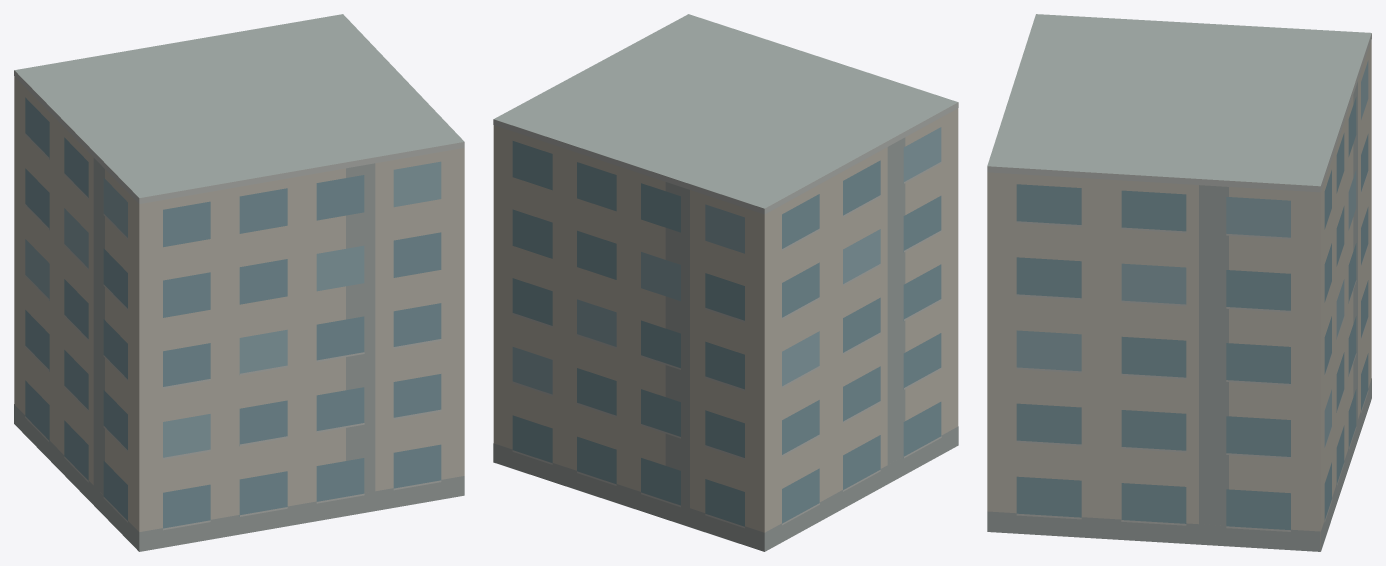
File: survey-upis-32883474.glb
3 views of the same model, side by side, from view 1: azimuth 30°, elevation 25°; view 2: azimuth 150°, elevation 25°; view 3: azimuth 270°, elevation 25° (orthographic). The views are drawn at different scales.
Visible parts, largest first — view 1: survey-upis-32883474.tmp; view 2: survey-upis-32883474.tmp; view 3: survey-upis-32883474.tmp.
Boxes of the visible parts, x1=… form: survey-upis-32883474.tmp: x1=14, y1=14, x2=464, y2=551; survey-upis-32883474.tmp: x1=493, y1=14, x2=958, y2=551; survey-upis-32883474.tmp: x1=987, y1=14, x2=1371, y2=551.
Bounding box in the file's own units: 14.61 × 14.45 × 13.79.
